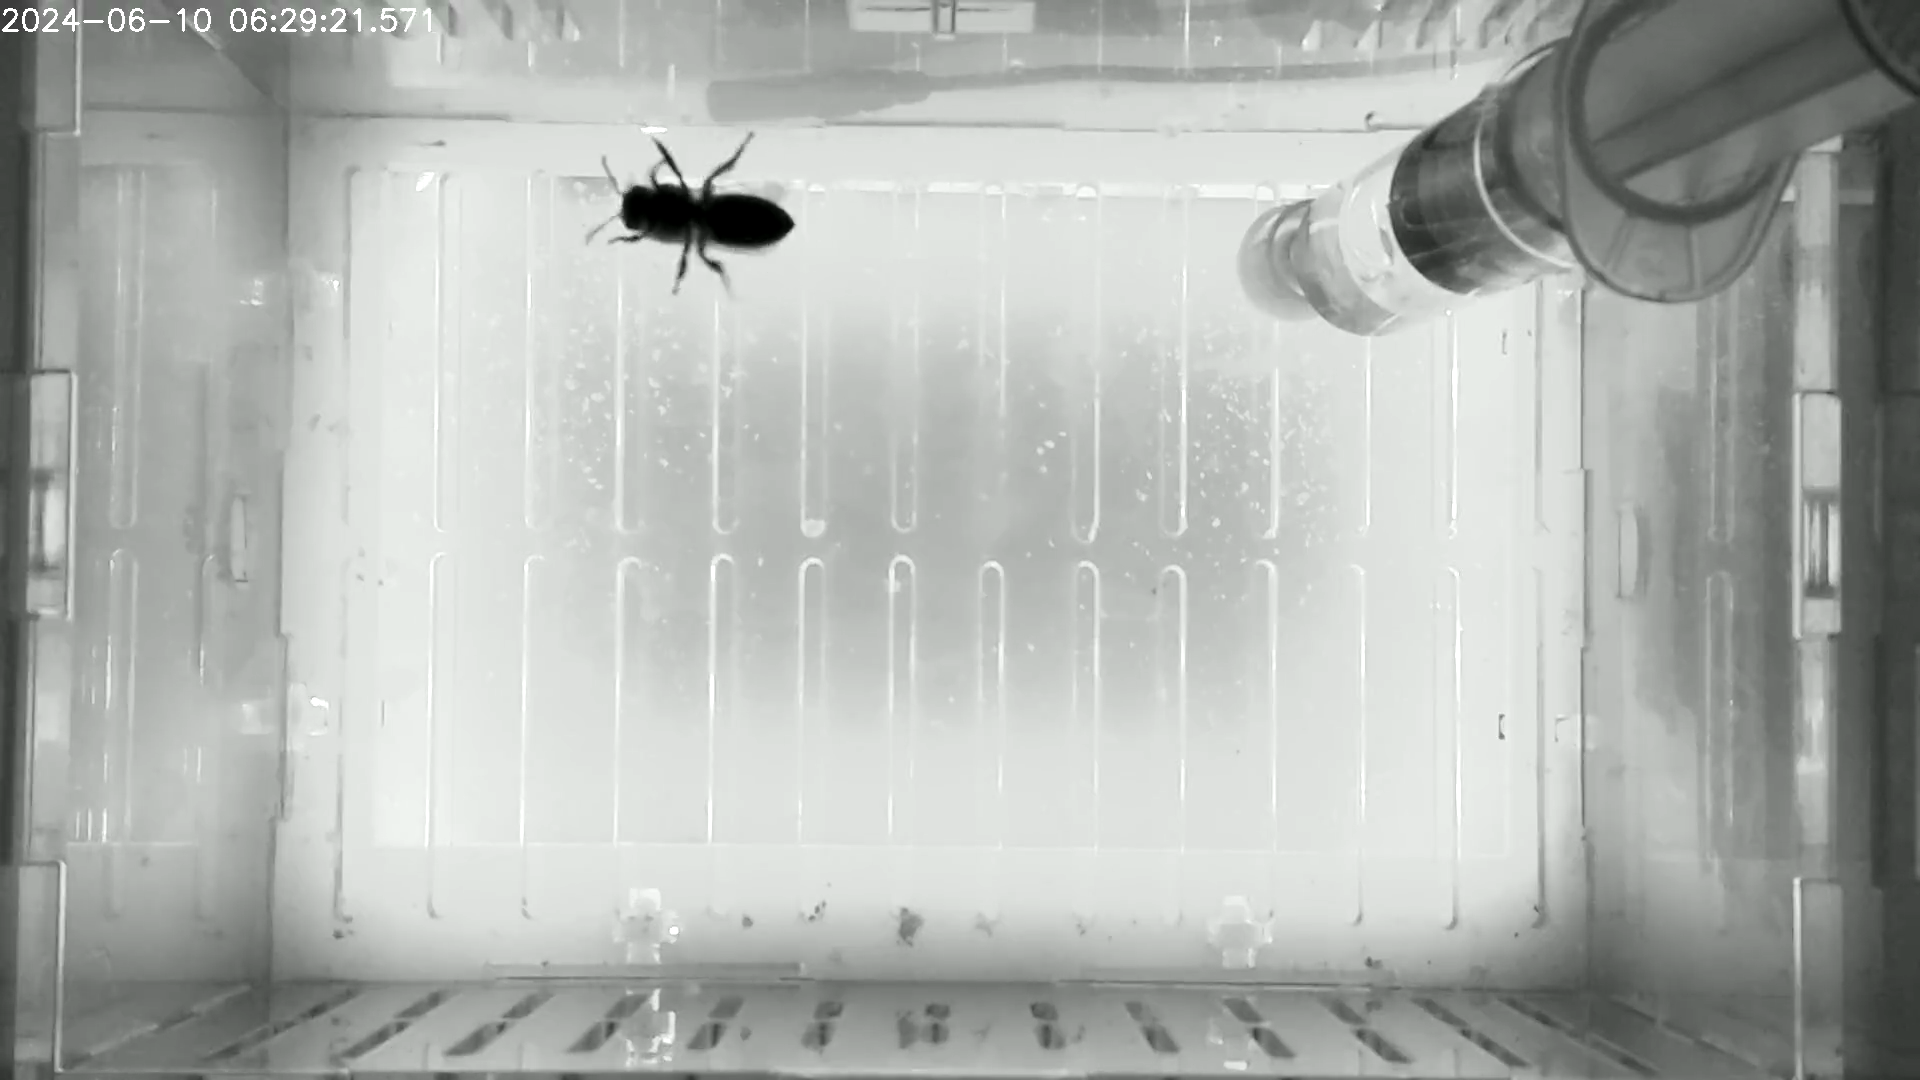bee: (575, 123, 803, 305)
feeder: (1286, 88, 1578, 347)
